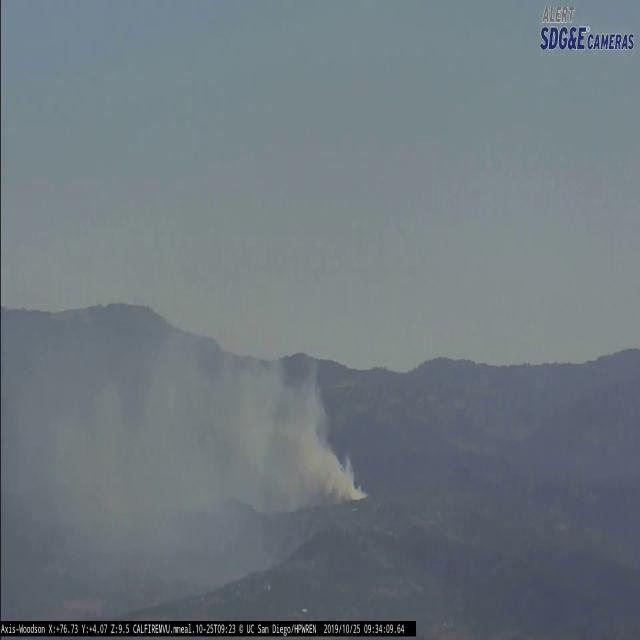smoke: (0, 252, 370, 600)
